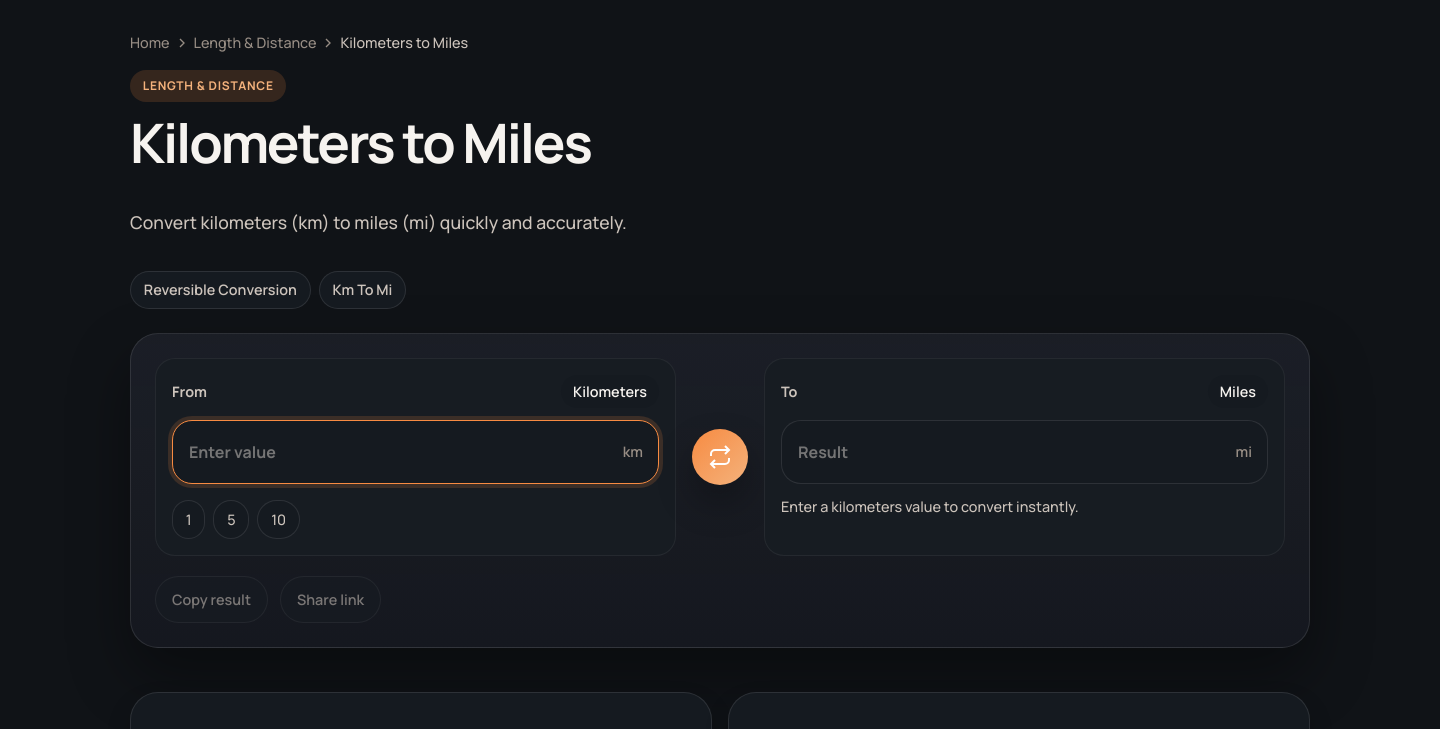
Test case: ui flows › fills an example chip and shows a result summary on converter pages
This screenshot has width=1440, height=729.
Click the button "5" at {"x": 231, "y": 520}, box [213,500,249,539]
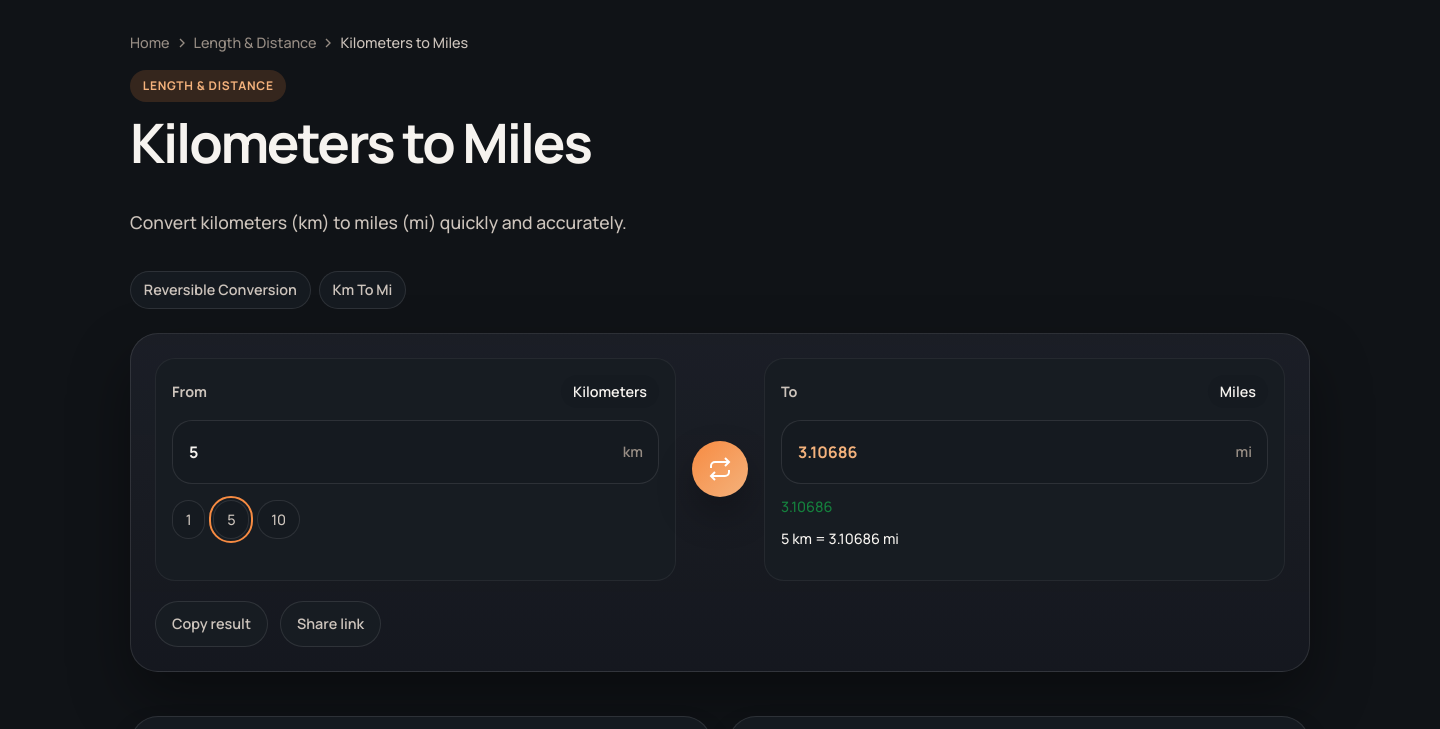
Result: the field showing "To" is shown at [781,420,1268,484]
Result: the text "5 km = 3.10686 mi" is shown at [781,529,899,548]
